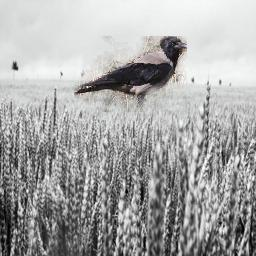Crow: (75, 36, 188, 112)
